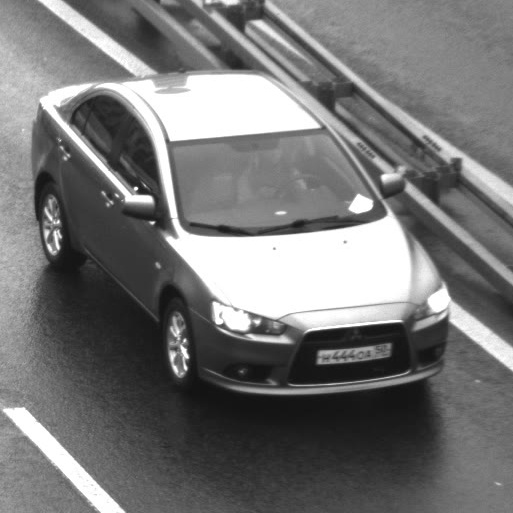plate: (305, 331, 399, 372)
